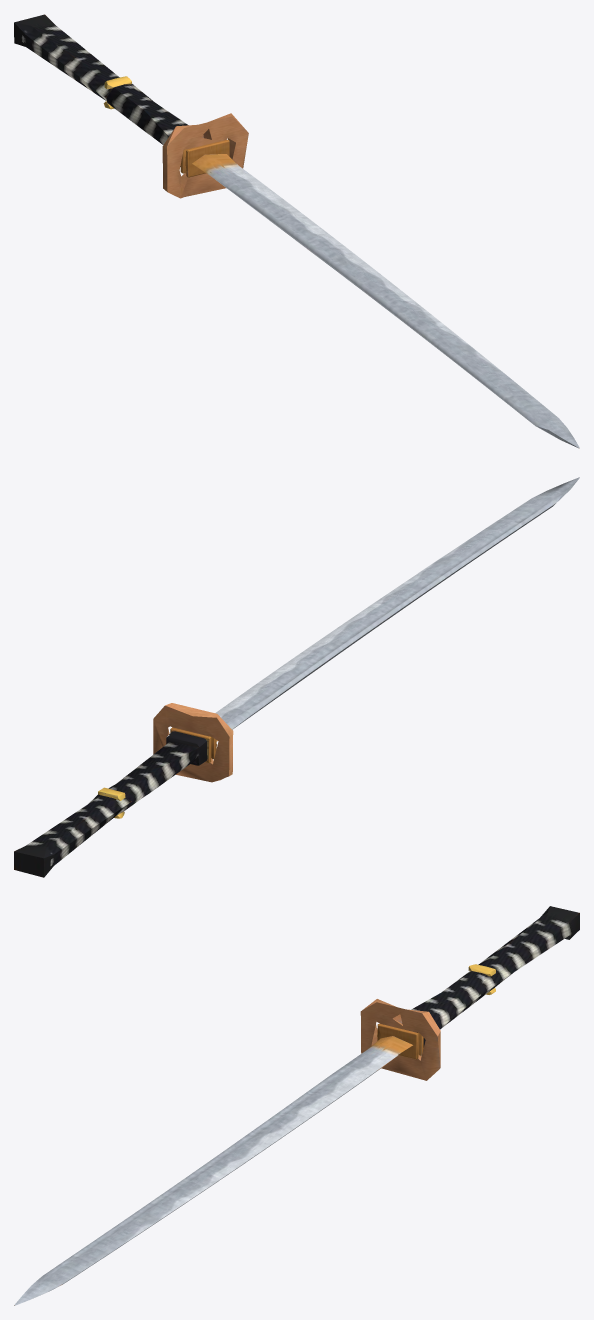
Rendered from katana_LOD2.glb.
3 views of the same model, one above another, from view 1: azimuth 30°, elevation 25°; view 2: azimuth 150°, elevation 25°; view 3: azimuth 330°, elevation 25° (orthographic). The views are drawn at different scales.
Visible parts, largest first — view 1: SM_katana_Body; view 2: SM_katana_Body; view 3: SM_katana_Body.
Part boxes in pixels (left/top/right/bottom): SM_katana_Body: left=14, top=14, right=579, bottom=448; SM_katana_Body: left=14, top=477, right=579, bottom=877; SM_katana_Body: left=14, top=906, right=579, bottom=1305.
Bounding box in the file's own units: 0.0817 × 0.0682 × 0.9802.
Materials: 1 (1 with a texture image).
